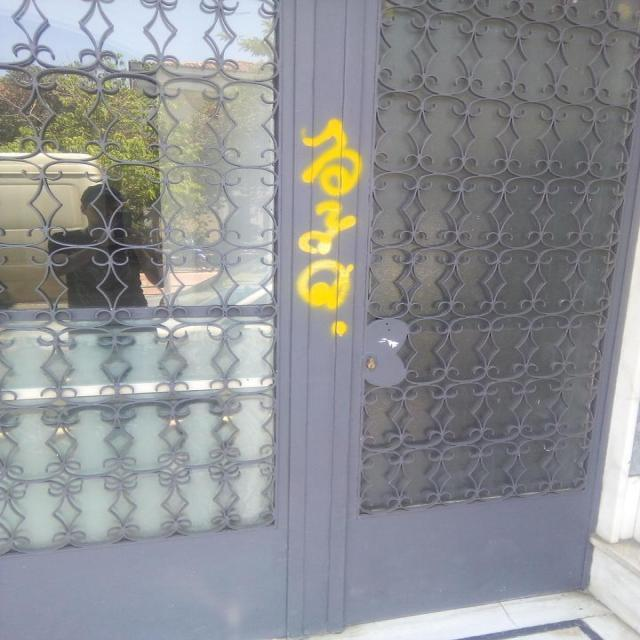nonspitting: (298, 119, 361, 337)
